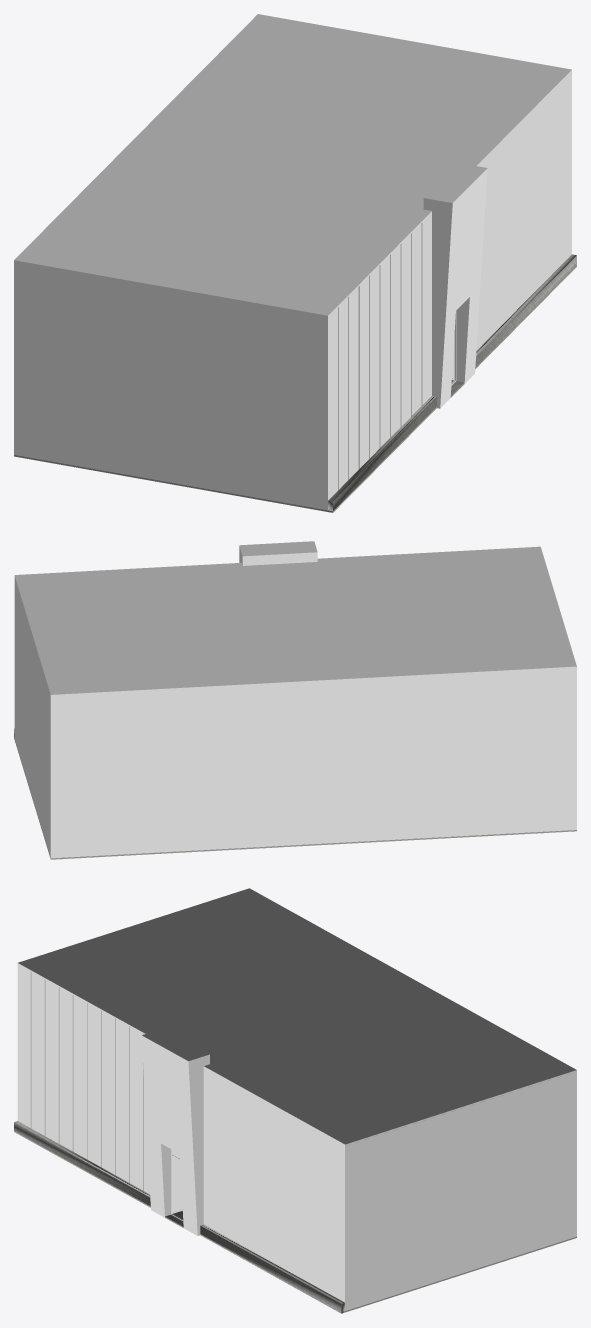
File: Concierto Exterior.fbx
3 renders of one model, top to bottom at view 1: azimuth 30°, elevation 25°; view 2: azimuth 150°, elevation 25°; view 3: azimuth 270°, elevation 25°, orthographic. The views are drawn at different scales.
Parts seen in each view (by area): view 1: Mesh8.001, Mesh87.003, Mesh8.003, Mesh87.002, Mesh37, Mesh39, Mesh44, Mesh87.001, Mesh30, Mesh32, Mesh35, Mesh38 (+12 smaller); view 2: Mesh12, Mesh8.001, Mesh8.003, Mesh87.001, Mesh87.002, Mesh87.003; view 3: Mesh8.001, Mesh87.002, Mesh8.003, Mesh87.003, Mesh39, Mesh41, Mesh35, Mesh31, Mesh44, Mesh37, Mesh87.001, Mesh30 (+13 smaller).
Boxes of the visible parts, bbox=[...] form: Mesh8.001: bbox=[14, 14, 571, 509]; Mesh87.003: bbox=[423, 187, 463, 408]; Mesh8.003: bbox=[14, 254, 576, 512]; Mesh87.002: bbox=[448, 163, 487, 383]; Mesh37: bbox=[326, 308, 337, 510]; Mesh39: bbox=[379, 255, 390, 447]; Mesh44: bbox=[358, 276, 369, 469]; Mesh87.001: bbox=[434, 173, 476, 310]; Mesh30: bbox=[390, 244, 400, 437]; Mesh32: bbox=[411, 223, 421, 416]; Mesh35: bbox=[369, 266, 379, 458]; Mesh38: bbox=[400, 234, 410, 426]; Mesh12: bbox=[50, 668, 576, 858]; Mesh8.001: bbox=[14, 546, 576, 857]; Mesh8.003: bbox=[14, 728, 576, 859]; Mesh87.001: bbox=[262, 542, 294, 564]; Mesh87.002: bbox=[239, 544, 264, 565]; Mesh87.003: bbox=[292, 541, 317, 562]; Mesh8.001: bbox=[17, 888, 576, 1310]; Mesh87.002: bbox=[174, 1046, 209, 1235]; Mesh8.003: bbox=[14, 1121, 576, 1313]; Mesh87.003: bbox=[141, 1028, 176, 1217]; Mesh39: bbox=[87, 1003, 101, 1167]; Mesh41: bbox=[31, 972, 45, 1136]; Mesh35: bbox=[73, 995, 87, 1159]; Mesh31: bbox=[45, 980, 59, 1143]; Mesh44: bbox=[59, 988, 73, 1151]; Mesh37: bbox=[17, 964, 31, 1128]; Mesh87.001: bbox=[155, 1036, 195, 1153]; Mesh30: bbox=[102, 1011, 115, 1175].
Bounding box in the file's own units: 4982 × 1603 × 4602.
